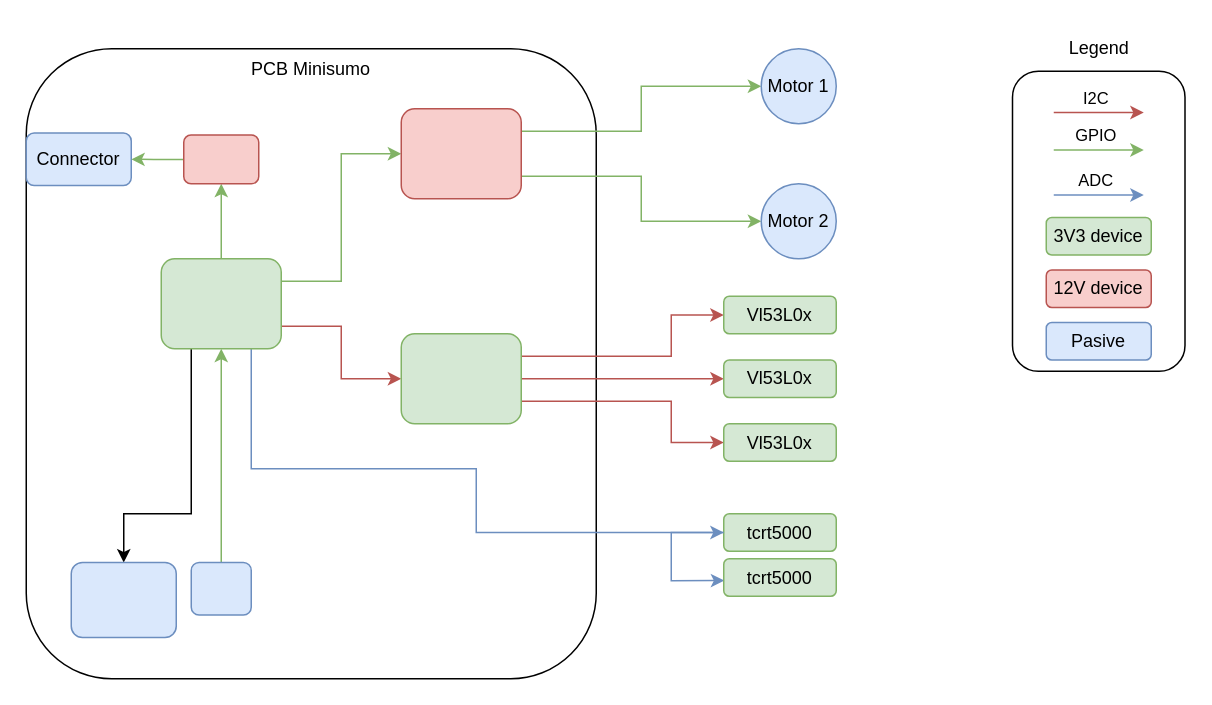
The diagram is 1212 pixels wide and 705 high, and some of its shapes have lost their labels. The shapes that lost their labels are listed below. From the top down, each one's centre as x and y in pixels, then its label:
point 220,159: MOSFET
point 460,153: TB6612fng
point 220,303: ESP32
point 460,378: TCA9548A
point 123,599: SD Card
point 220,588: Push Button
